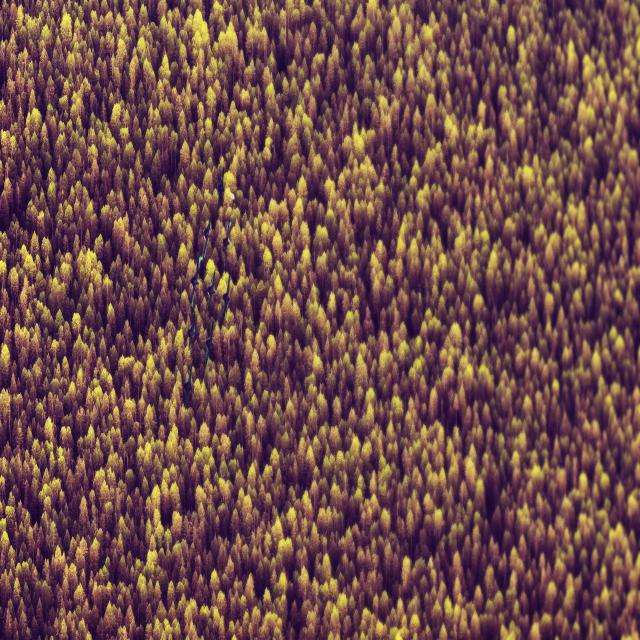airplane: (204, 321, 217, 365), (204, 273, 218, 312), (222, 278, 234, 319), (186, 316, 197, 350), (203, 220, 213, 256), (222, 220, 232, 255), (184, 364, 193, 401), (190, 272, 198, 306)
